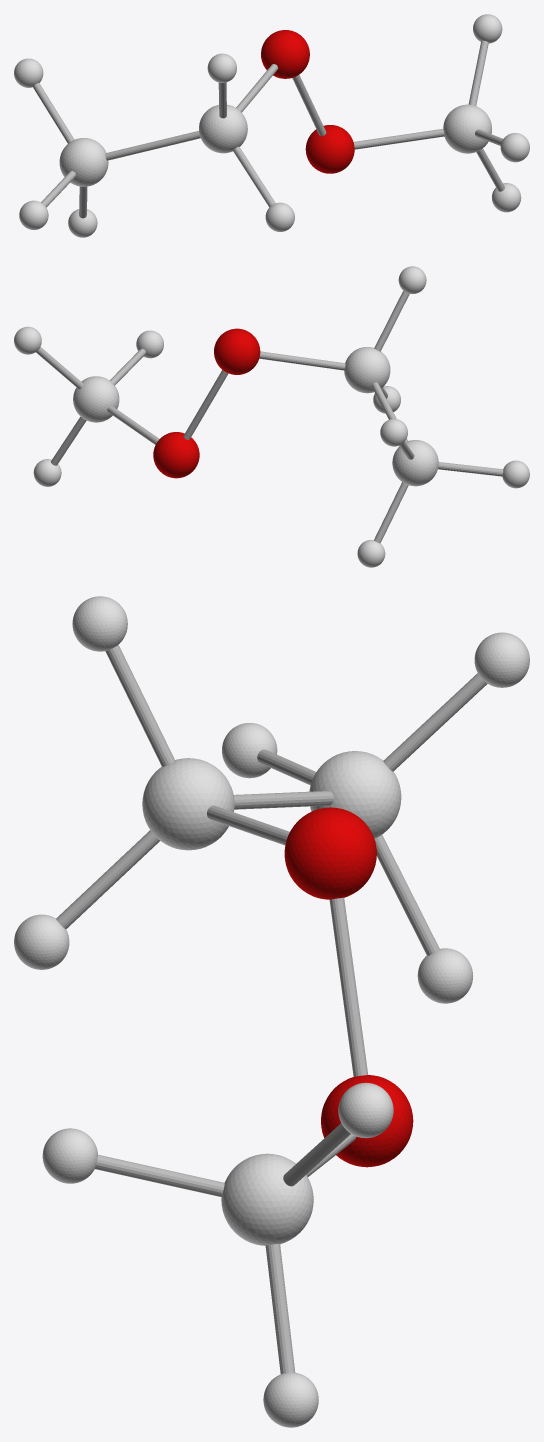
Rendered from CCOOC.glb.
3 renders of one model, top to bottom at view 1: azimuth 30°, elevation 25°; view 2: azimuth 150°, elevation 25°; view 3: azimuth 270°, elevation 25°, orthographic. The views are drawn at different scales.
Visible parts, largest first — view 1: world; view 2: world; view 3: world.
Part boxes in pixels (box(x1,y1,x2,y2)): world: box(14, 14, 529, 237); world: box(14, 266, 529, 567); world: box(14, 596, 529, 1427).
Size of the model in its own units: 6.01 by 3.09 by 2.79.
